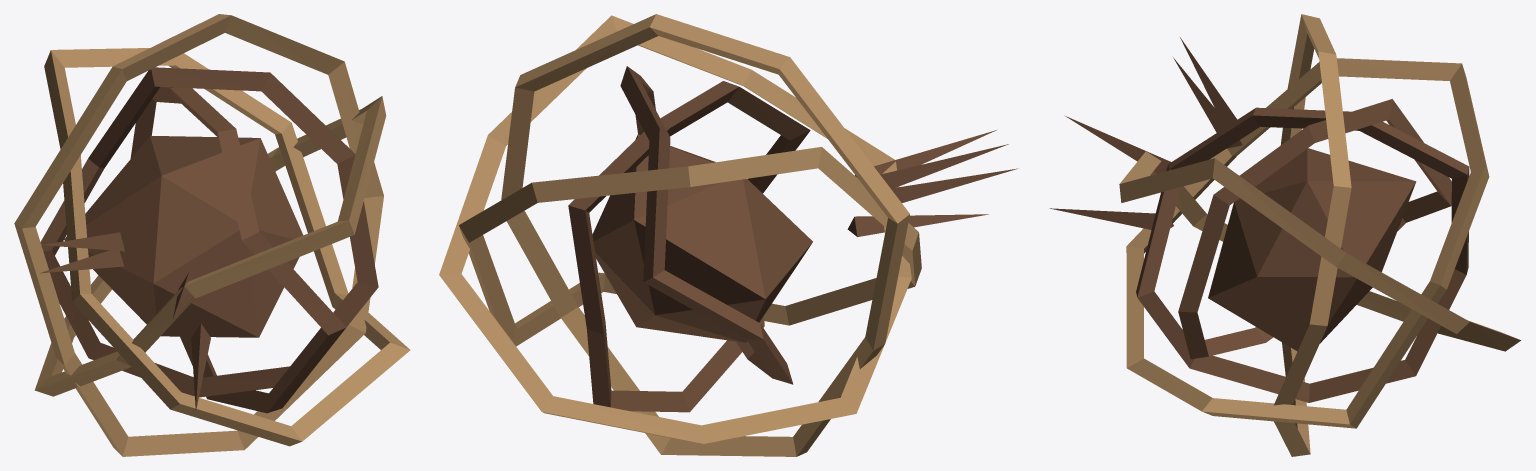
Rendered from Veg_Tumbleweed_A.fbx.
3 renders of one model, left to right at view 1: azimuth 30°, elevation 25°; view 2: azimuth 150°, elevation 25°; view 3: azimuth 270°, elevation 25°, orthographic. The views are drawn at different scales.
Visible parts, largest first — view 1: Veg_Tumbleweed_A; view 2: Veg_Tumbleweed_A; view 3: Veg_Tumbleweed_A.
Part boxes in pixels (bbox=[...]): Veg_Tumbleweed_A: bbox=[14, 14, 410, 456]; Veg_Tumbleweed_A: bbox=[439, 14, 1017, 456]; Veg_Tumbleweed_A: bbox=[1049, 14, 1520, 456].
Size of the model in its own units: 0.8388 by 0.8155 by 0.8614.
